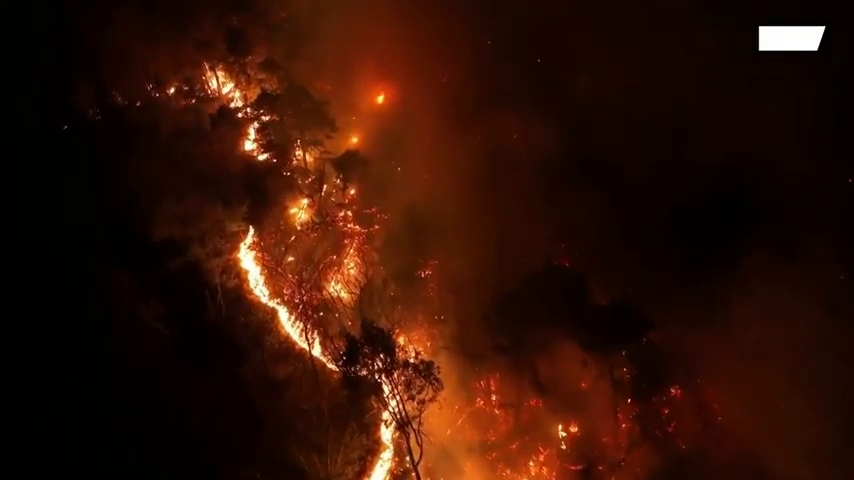forest_fire: (364, 350, 695, 479), (239, 140, 379, 371), (205, 66, 274, 161), (393, 315, 437, 354), (416, 261, 436, 279), (376, 377, 392, 396), (426, 281, 435, 294), (374, 92, 384, 102), (349, 135, 357, 144), (638, 341, 645, 347), (418, 440, 422, 450), (166, 87, 175, 90), (409, 447, 410, 452), (409, 455, 410, 459), (403, 432, 405, 434)
